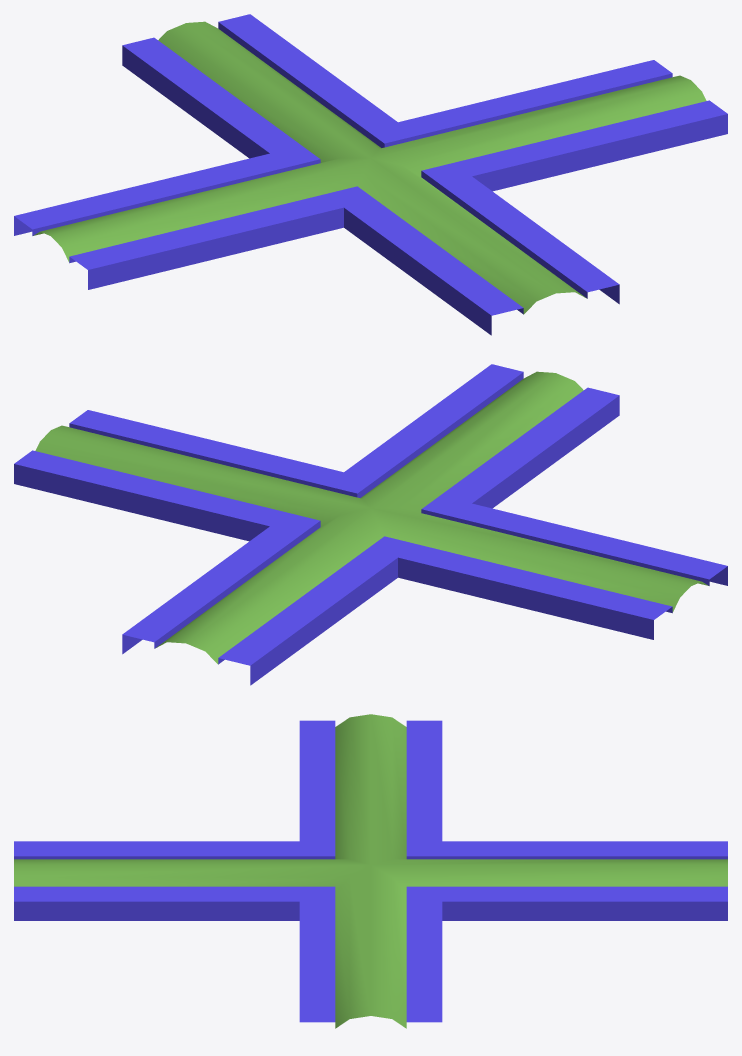
The model's file is PowerCable_4Way_01.FBX.
The picture shows the model from 3 angles, top to bottom: view 1: azimuth 30°, elevation 25°; view 2: azimuth 150°, elevation 25°; view 3: azimuth 270°, elevation 25°; orthographic projection. The views are drawn at different scales.
Parts seen in each view (by area): view 1: PowerCable_4Way_01; view 2: PowerCable_4Way_01; view 3: PowerCable_4Way_01.
Boxes of the visible parts, <box> form: PowerCable_4Way_01: <box>14,14,727,335</box>; PowerCable_4Way_01: <box>14,364,727,685</box>; PowerCable_4Way_01: <box>14,714,727,1028</box>.
Bounding box in the file's own units: 1 × 0.04 × 1.
